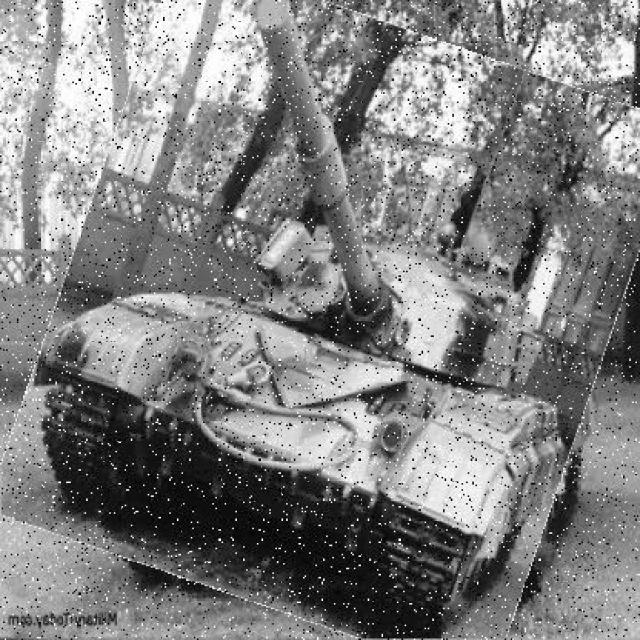Tank: (27, 1, 640, 639)
